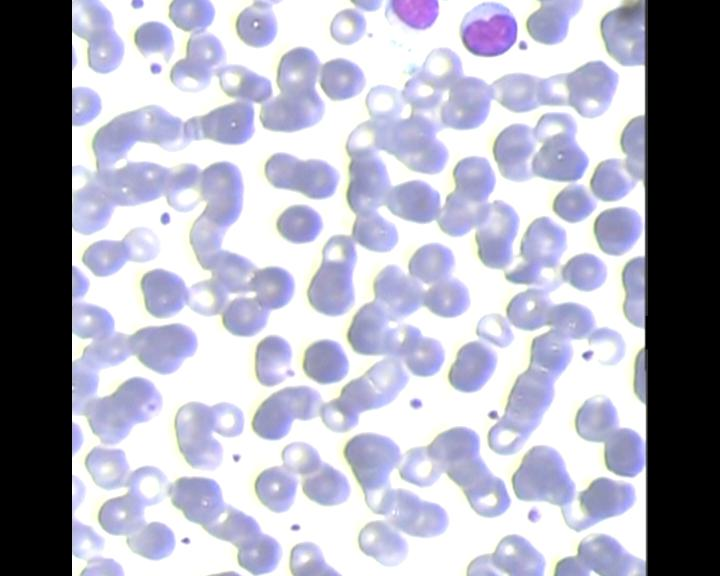lymp: (456, 2, 520, 62), (379, 0, 444, 41)
